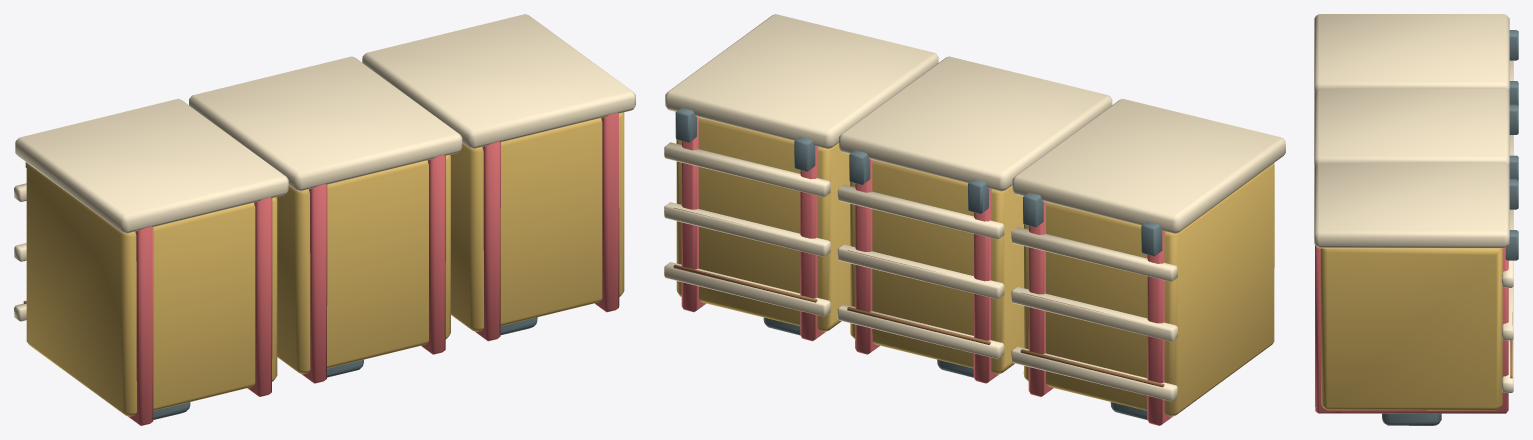
The model's file is broto_hoppers_crate_mobile.glb.
3 renders of one model, left to right at view 1: azimuth 30°, elevation 25°; view 2: azimuth 150°, elevation 25°; view 3: azimuth 270°, elevation 25°, orthographic. The views are drawn at different scales.
Visible parts, largest first — view 1: Hoppers, CraftDetails; view 2: Hoppers, CraftDetails; view 3: Hoppers, CraftDetails.
Part boxes in pixels (left/top/right/bottom): Hoppers: left=14, top=14, right=635, bottom=425; CraftDetails: left=23, top=162, right=537, bottom=419; Hoppers: left=664, top=14, right=1285, bottom=425; CraftDetails: left=673, top=108, right=1164, bottom=419; Hoppers: left=1314, top=14, right=1513, bottom=413; CraftDetails: left=1382, top=30, right=1518, bottom=425.
Bounding box in the file's own units: 2.35 × 1.09 × 0.917.
